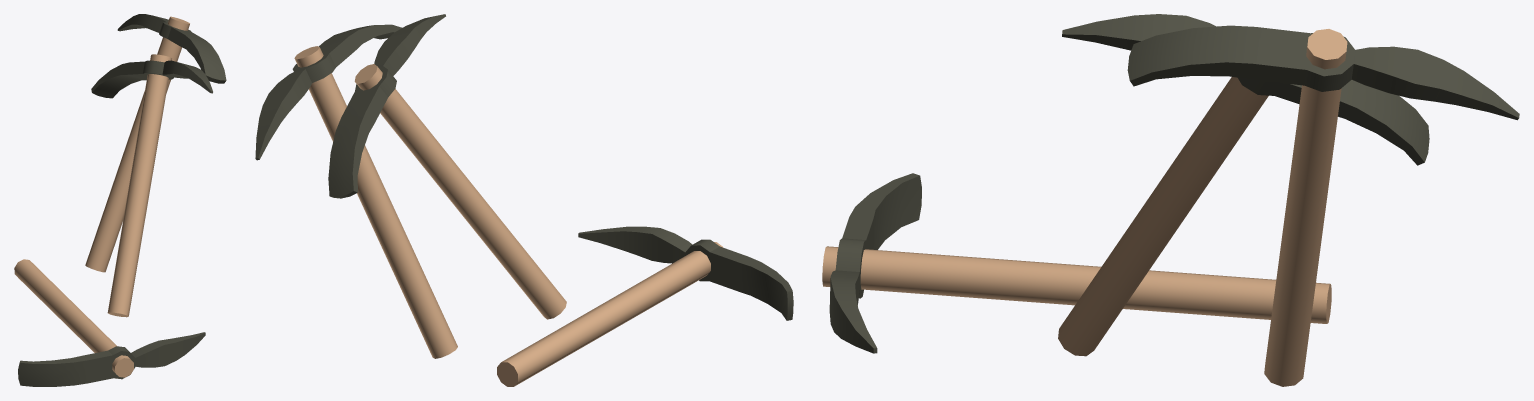
Rendered from FI_058_pick_axes.glb.
The picture shows the model from 3 angles, left to right: view 1: azimuth 30°, elevation 25°; view 2: azimuth 150°, elevation 25°; view 3: azimuth 270°, elevation 25°; orthographic projection. The views are drawn at different scales.
Parts seen in each view (by area): view 1: pick_axes; view 2: pick_axes; view 3: pick_axes.
Boxes of the visible parts, left/top/right/bottom form: pick_axes: left=14, top=14, right=226, bottom=386; pick_axes: left=255, top=14, right=793, bottom=386; pick_axes: left=822, top=14, right=1519, bottom=386.
Bounding box in the file's own units: 1.57 × 1.21 × 1.76.
